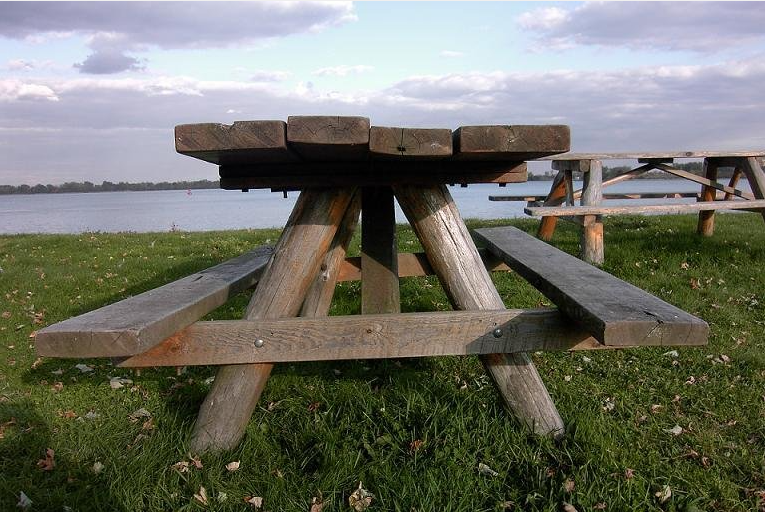obstacle: (29, 110, 712, 453)
